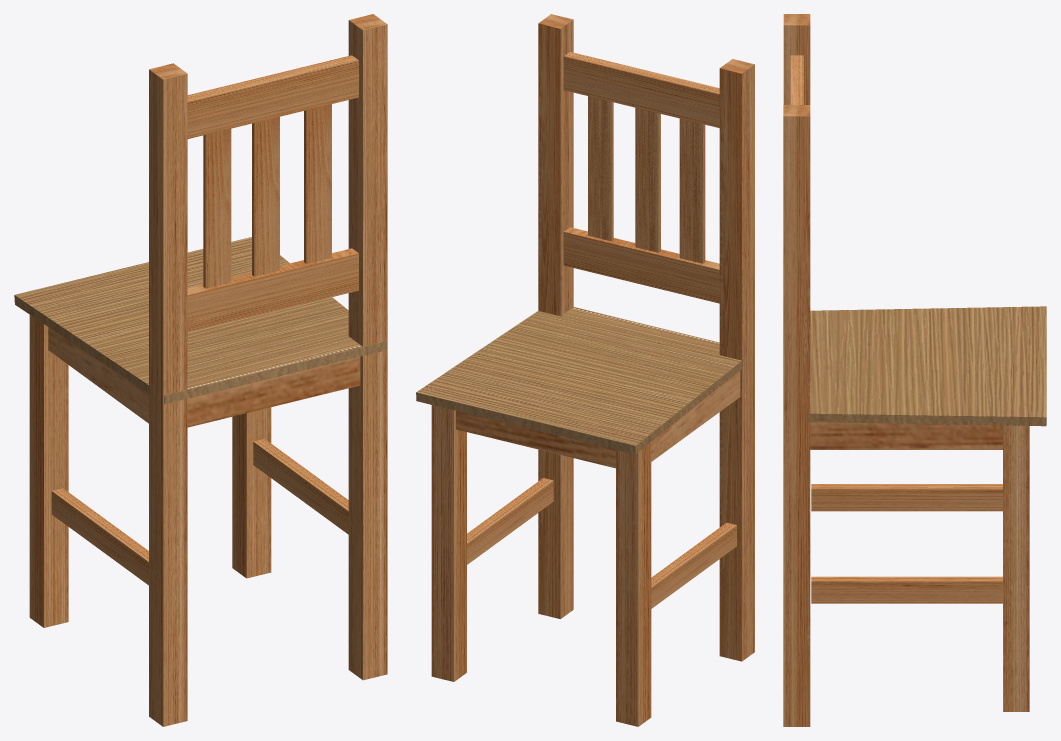
Rendered from Tarea_1_Silla.fbx.
The picture shows the model from 3 angles, left to right: view 1: azimuth 30°, elevation 25°; view 2: azimuth 150°, elevation 25°; view 3: azimuth 270°, elevation 25°; orthographic projection. The views are drawn at different scales.
Parts seen in each view (by area): view 1: Cube.003, Cube, Cubo.003, Cube.002, Cubo, Cubo.005, Cubo.004, Cube.001, Cubo.007, Cubo.008, Cubo.006, Cubo.001 (+1 smaller); view 2: Cubo.003, Cube.003, Cube, Cube.002, Cube.001, Cubo.005, Cubo.004, Cubo, Cubo.007, Cubo.008, Cubo.006, Cubo.002 (+1 smaller); view 3: Cubo.003, Cube, Cube.001, Cubo.001, Cubo.002, Cubo, Cube.003, Cubo.005.
Boxes of the visible parts, <box> form: Cube.003: <box>149,63,187,726</box>; Cube: <box>348,14,387,680</box>; Cubo.003: <box>14,237,386,404</box>; Cube.002: <box>29,315,68,627</box>; Cubo: <box>48,327,360,427</box>; Cubo.005: <box>187,55,358,138</box>; Cubo.004: <box>187,248,358,332</box>; Cube.001: <box>232,407,271,578</box>; Cubo.007: <box>203,129,231,288</box>; Cubo.008: <box>252,117,279,276</box>; Cubo.006: <box>304,104,331,263</box>; Cubo.001: <box>51,488,148,585</box>; Cubo.003: <box>416,307,742,454</box>; Cube.003: <box>719,59,754,661</box>; Cube: <box>538,14,573,618</box>; Cube.002: <box>616,442,651,726</box>; Cube.001: <box>431,405,466,681</box>; Cubo.005: <box>563,52,719,127</box>; Cubo.004: <box>563,227,719,303</box>; Cubo: <box>456,370,740,468</box>; Cubo.007: <box>679,118,705,263</box>; Cubo.008: <box>635,107,660,252</box>; Cubo.006: <box>588,96,613,241</box>; Cubo.002: <box>467,478,553,564</box>; Cubo.003: <box>807,306,1046,426</box>; Cube: <box>783,105,810,726</box>; Cube.001: <box>1003,425,1029,711</box>; Cubo.001: <box>811,484,1002,511</box>; Cubo.002: <box>811,576,1002,603</box>; Cubo: <box>810,422,1002,449</box>; Cube.003: <box>783,14,810,104</box>; Cubo.005: <box>790,55,803,104</box>.
Bounding box in the file's own units: 98.07 × 252 × 98.53.
2 materials, 2 textured.
